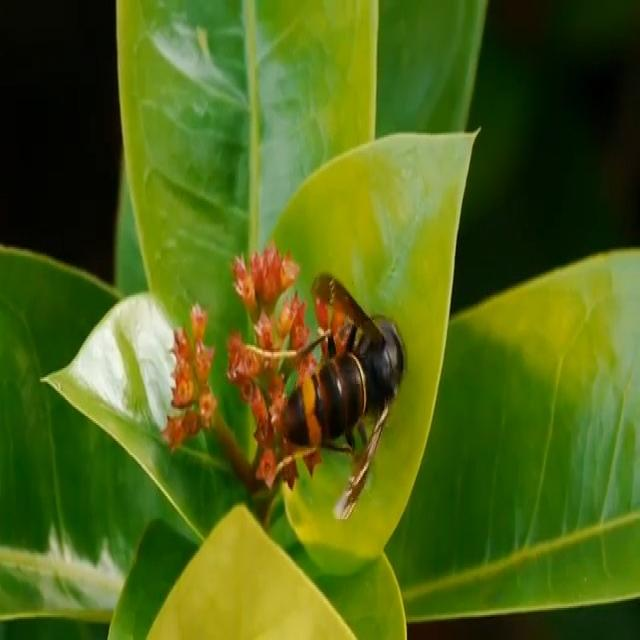Hornets: (240, 267, 406, 523)
